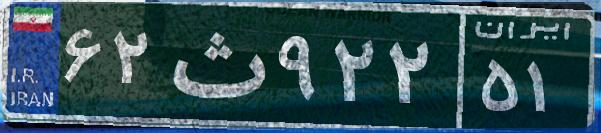1: (525, 38, 570, 115)
2: (385, 28, 445, 110), (330, 28, 385, 110), (110, 28, 158, 105)
5: (475, 38, 525, 113)
6: (57, 26, 110, 107)
9: (273, 28, 330, 110)
ث: (158, 15, 273, 115)
